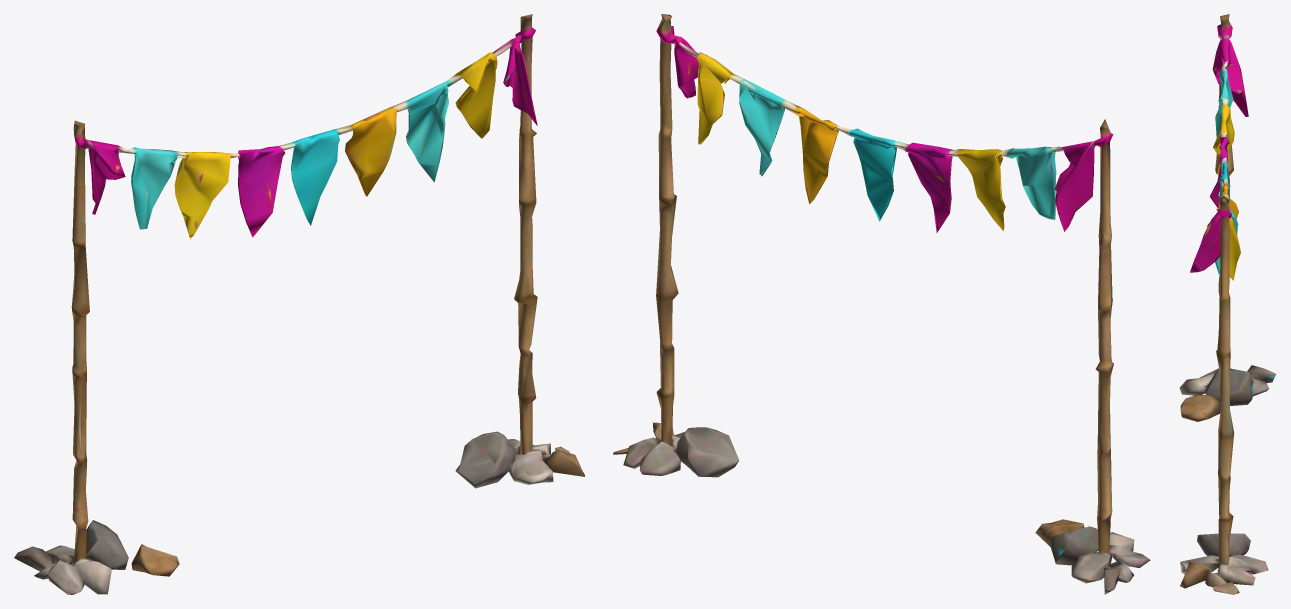
File: bunting.glb
3 renders of one model, left to right at view 1: azimuth 30°, elevation 25°; view 2: azimuth 150°, elevation 25°; view 3: azimuth 270°, elevation 25°, orthographic. The views are drawn at different scales.
Parts seen in each view (by area): view 1: tripo_node_52452279-7965-4327-84e3-be5ab01629dc; view 2: tripo_node_52452279-7965-4327-84e3-be5ab01629dc; view 3: tripo_node_52452279-7965-4327-84e3-be5ab01629dc.
Boxes of the visible parts, box(x1,y1,x2,y2) form: tripo_node_52452279-7965-4327-84e3-be5ab01629dc: box(14, 14, 584, 594); tripo_node_52452279-7965-4327-84e3-be5ab01629dc: box(613, 14, 1150, 594); tripo_node_52452279-7965-4327-84e3-be5ab01629dc: box(1179, 14, 1276, 594).
Bounding box in the file's own units: 0.9509 × 0.7783 × 0.1799.
1 material, 1 textured.
